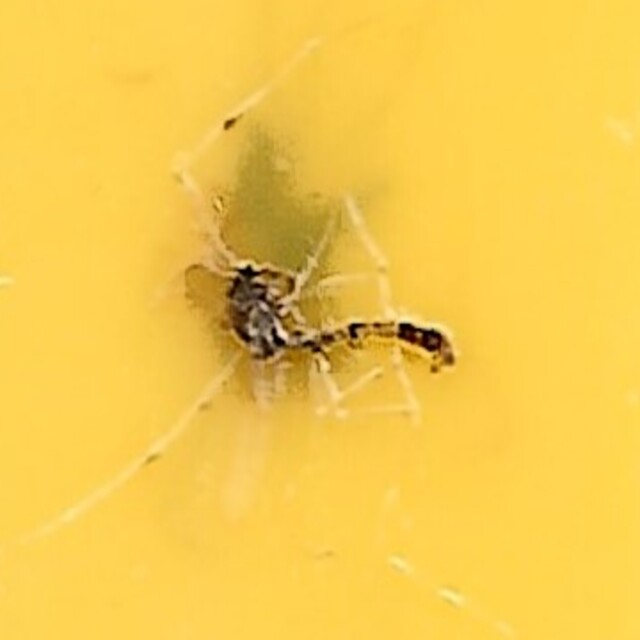Nematocera: (178, 236, 462, 404)
